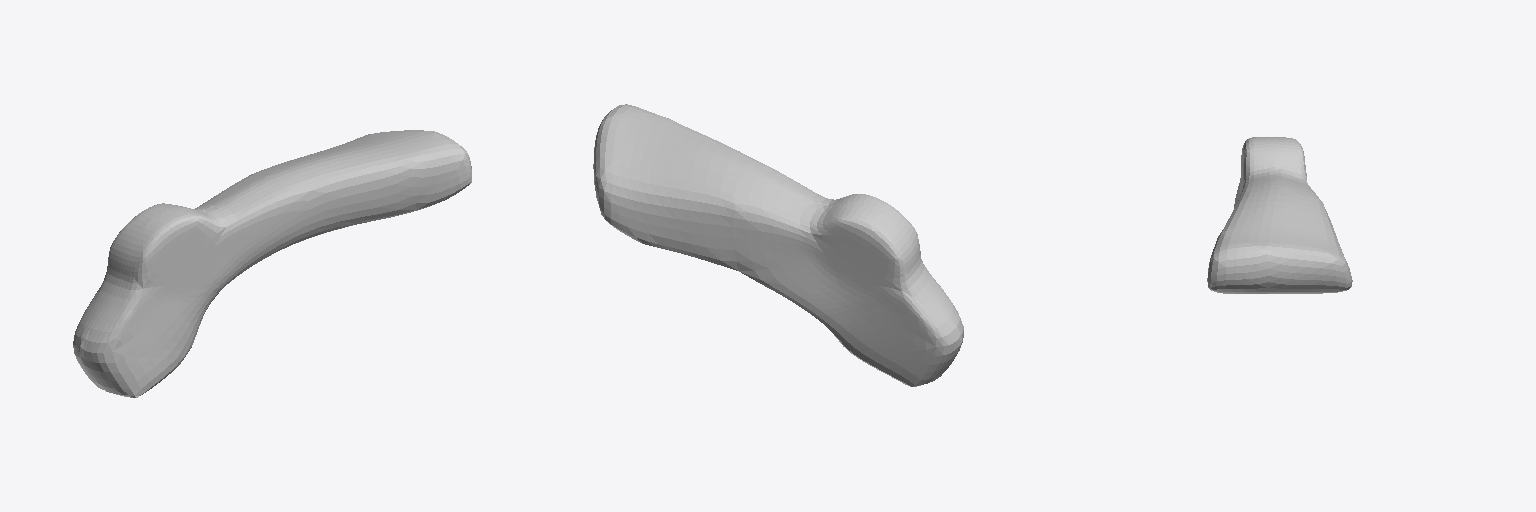
Rendered from LeftFoot.obj.
3 views of the same model, side by side, from view 1: azimuth 30°, elevation 25°; view 2: azimuth 150°, elevation 25°; view 3: azimuth 270°, elevation 25° (orthographic).
Parts seen in each view (by area): view 1: foot_left.001; view 2: foot_left.001; view 3: foot_left.001.
Boxes of the visible parts, box(x1,y1,x2,y2) form: foot_left.001: box(73, 130, 471, 397); foot_left.001: box(593, 104, 963, 386); foot_left.001: box(1207, 137, 1352, 293).
Size of the model in its own units: 0.2197 by 0.1035 by 0.0747.